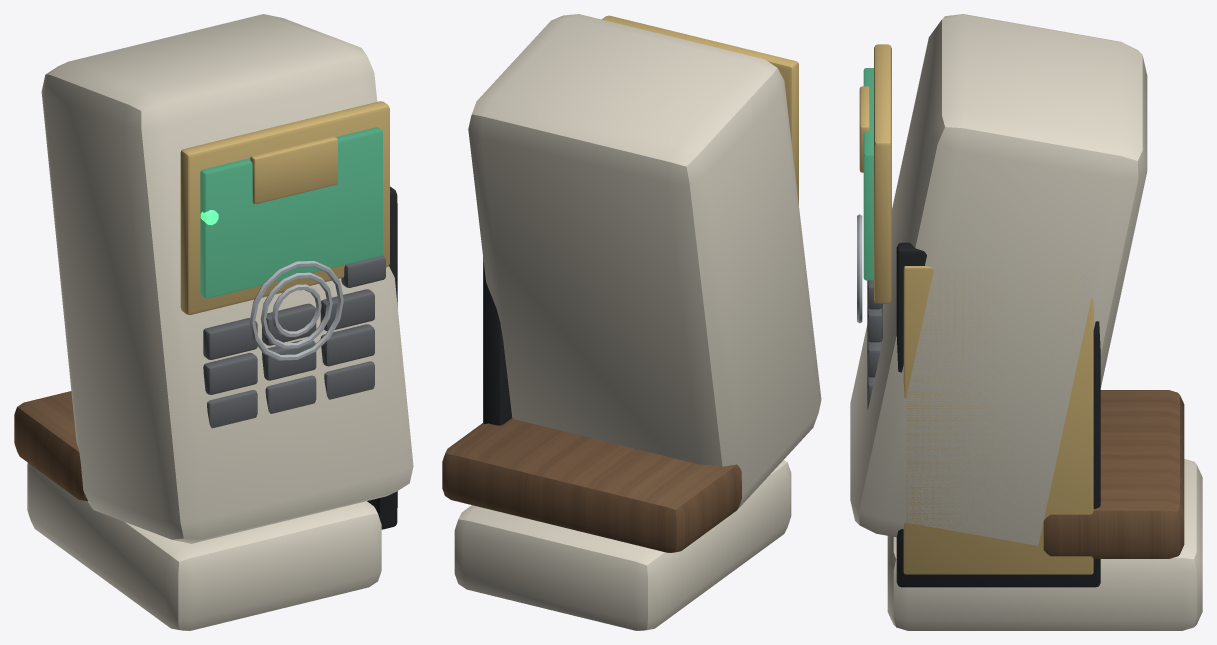
Rendered from card_reader_country_club.glb.
3 renders of one model, left to right at view 1: azimuth 30°, elevation 25°; view 2: azimuth 150°, elevation 25°; view 3: azimuth 270°, elevation 25°, orthographic. The views are drawn at different scales.
Visible parts, largest first — view 1: Reader_Shell, Reader_Stand, Terminal_Screen, Reader_ScreenFrame, Reader_WalnutCradle, Reader_BrassBadge, Reader_NFC_2, Terminal_Key_4, Terminal_Key_6, Terminal_Key_1, Reader_SwipeRailOuter, Terminal_Key_8 (+8 smaller); view 2: Reader_Shell, Reader_Stand, Reader_WalnutCradle, Reader_SwipeRailOuter, Reader_ScreenFrame; view 3: Reader_Shell, Reader_Stand, Reader_SwipeRailInner, Reader_WalnutCradle, Reader_SwipeRailOuter, Reader_ScreenFrame, Terminal_Screen, Reader_BrassBadge, Reader_NFC_2, Terminal_Key_3.
Boxes of the visible parts, left/top/right/bottom form: Reader_Shell: left=41, top=14, right=413, bottom=543; Reader_Stand: left=27, top=463, right=381, bottom=630; Terminal_Screen: left=200, top=127, right=382, bottom=298; Reader_ScreenFrame: left=180, top=101, right=389, bottom=314; Reader_WalnutCradle: left=14, top=391, right=87, bottom=501; Reader_BrassBadge: left=250, top=136, right=337, bottom=204; Reader_NFC_2: left=249, top=261, right=343, bottom=360; Terminal_Key_4: left=203, top=352, right=257, bottom=394; Terminal_Key_6: left=320, top=324, right=374, bottom=366; Terminal_Key_1: left=203, top=318, right=257, bottom=359; Reader_SwipeRailOuter: left=367, top=186, right=397, bottom=529; Terminal_Key_8: left=265, top=375, right=316, bottom=413; Reader_Shell: left=468, top=14, right=821, bottom=508; Reader_Stand: left=454, top=460, right=791, bottom=630; Reader_WalnutCradle: left=442, top=418, right=741, bottom=552; Reader_SwipeRailOuter: left=483, top=263, right=512, bottom=425; Reader_ScreenFrame: left=602, top=15, right=798, bottom=204; Reader_Shell: left=850, top=14, right=1147, bottom=545; Reader_Stand: left=887, top=459, right=1202, bottom=630; Reader_SwipeRailInner: left=903, top=266, right=1093, bottom=574; Reader_WalnutCradle: left=1043, top=390, right=1184, bottom=558; Reader_SwipeRailOuter: left=896, top=242, right=1100, bottom=587; Reader_ScreenFrame: left=874, top=44, right=891, bottom=303; Terminal_Screen: left=863, top=68, right=873, bottom=280; Reader_BrassBadge: left=859, top=86, right=869, bottom=172; Reader_NFC_2: left=857, top=214, right=862, bottom=323; Terminal_Key_3: left=867, top=306, right=882, bottom=342.
Size of what is drawn, in the model's own units: 0.1142 by 0.2243 by 0.1369.
Materials: 9 (1 with a texture image).
